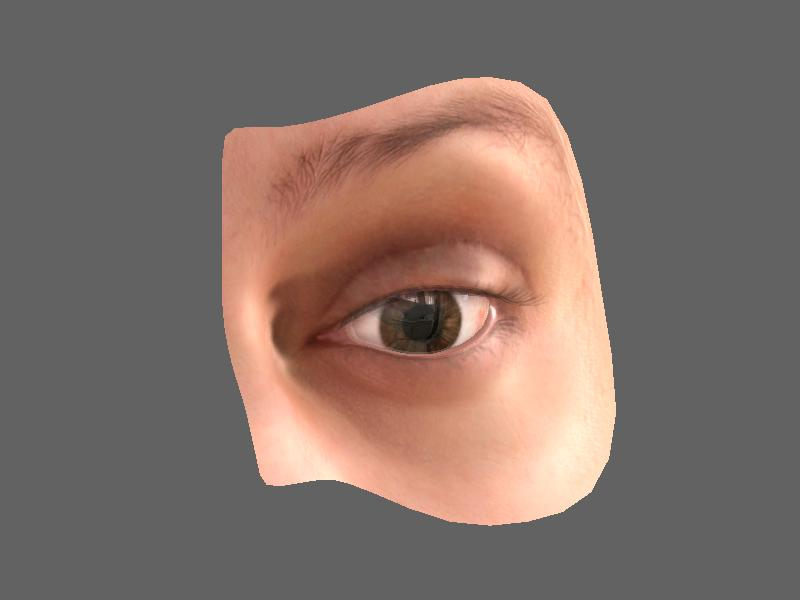iris: (381, 290, 462, 355)
